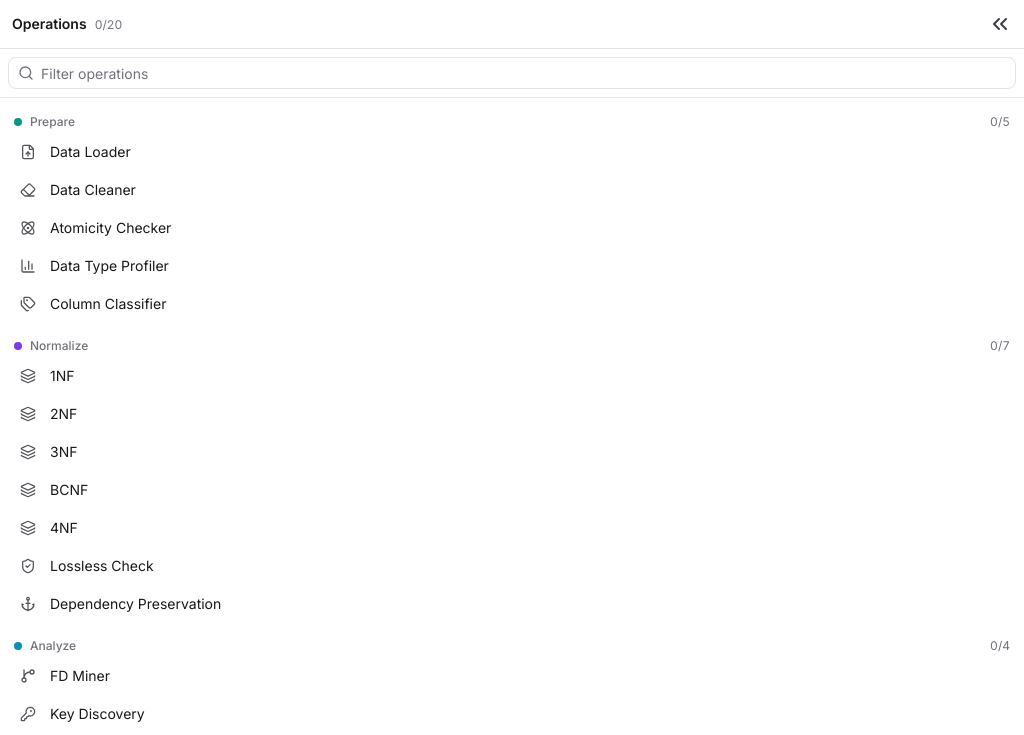
Test: OperationPalette (list) › filters by name or description, and Escape clears the filter
This screenshot has width=1024, height=735.
Type "sql" into the search field labelled "Filter operations" at point(512, 73), box [8,57,1016,89]
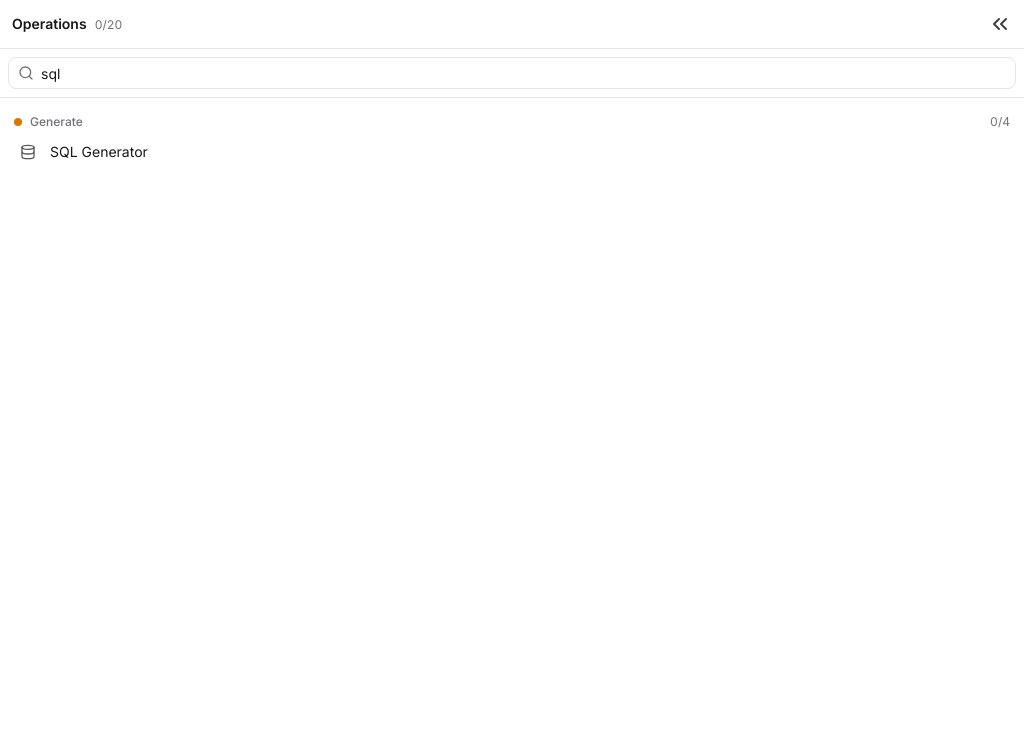
Replace the text in the search field named "Filter operations" with "zzz" at point(512, 73), box [8,57,1016,89]
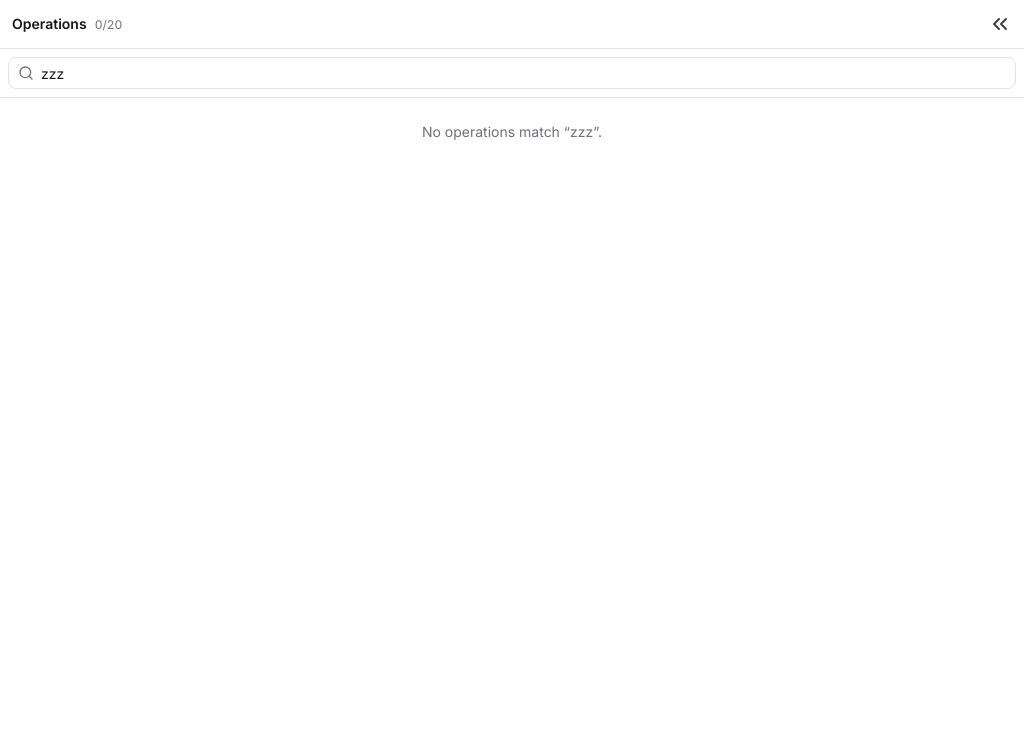
Expected: the text "No operations match “zzz”." is shown, [422,123,602,140]
Press Escape in the search field named "Filter operations", box [8,57,1016,89]
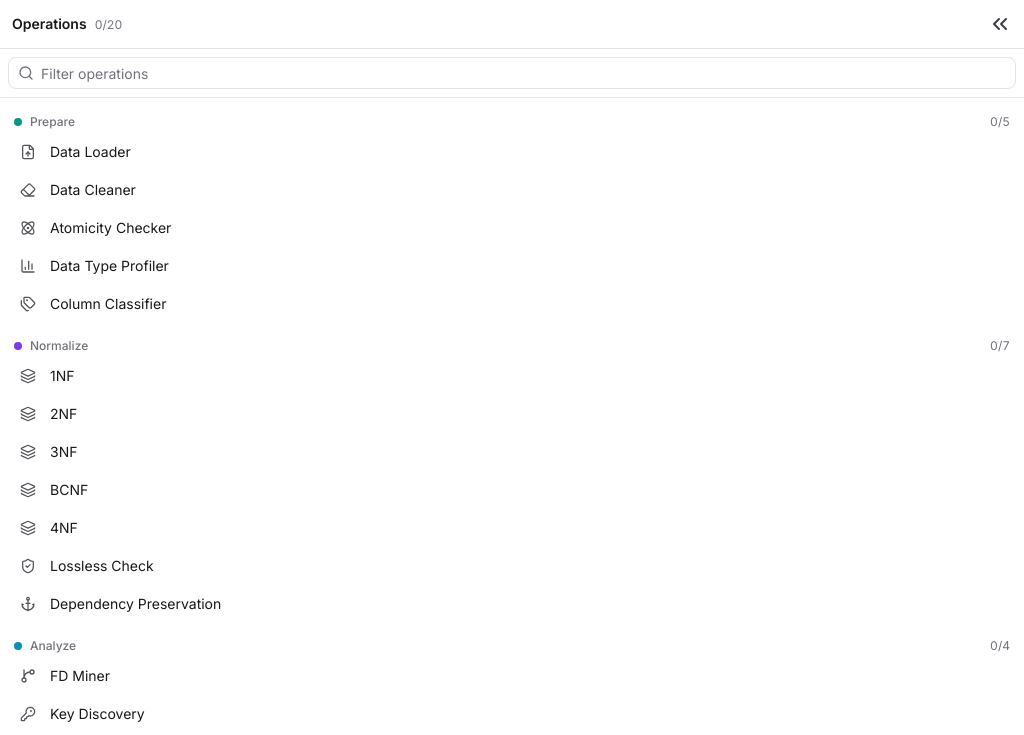
Expected: the number of list items is 20
